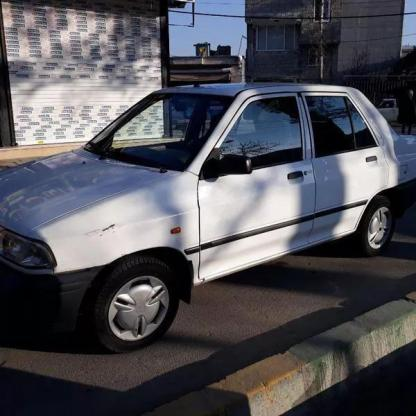Car: (0, 83, 416, 334)
